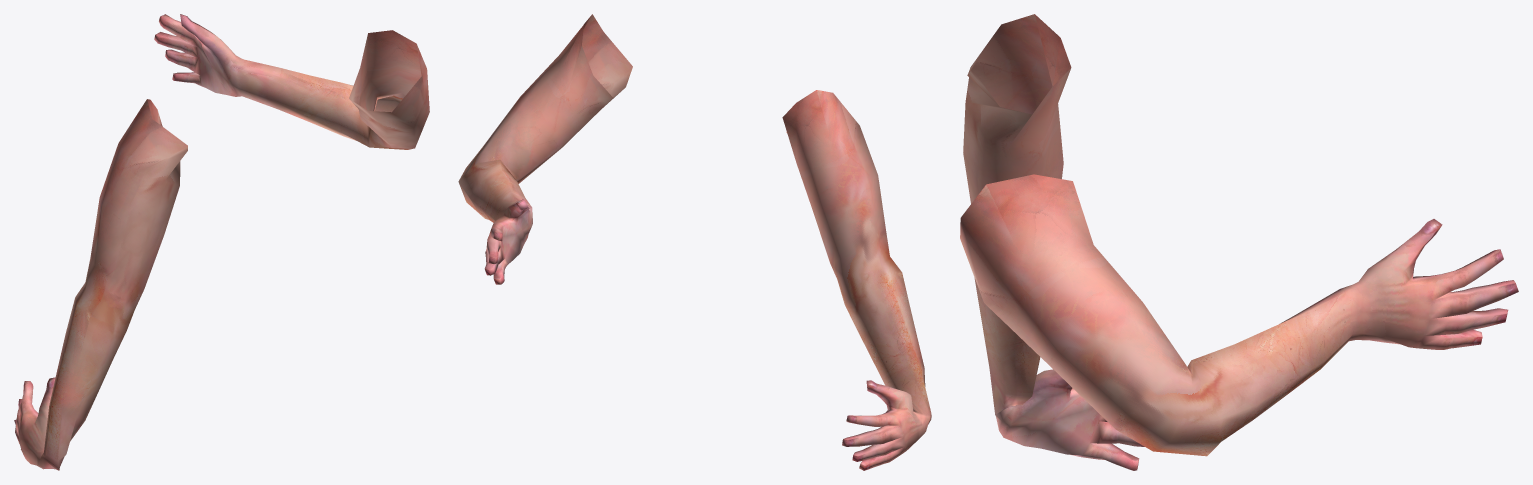
The model's file is single.glb.
3 views of the same model, side by side, from view 1: azimuth 30°, elevation 25°; view 2: azimuth 150°, elevation 25°; view 3: azimuth 270°, elevation 25° (orthographic). The views are drawn at different scales.
Parts seen in each view (by area): view 1: PlayerArms_single; view 2: PlayerArms_single; view 3: PlayerArms_single.
Part boxes in pixels (x1=…): PlayerArms_single: x1=14, y1=14, x2=429, y2=470; PlayerArms_single: x1=458, y1=14, x2=931, y2=470; PlayerArms_single: x1=960, y1=14, x2=1518, y2=470.
Size of the model in its own units: 0.8967 by 0.7236 by 0.6934.
Materials: 1 (1 with a texture image).
